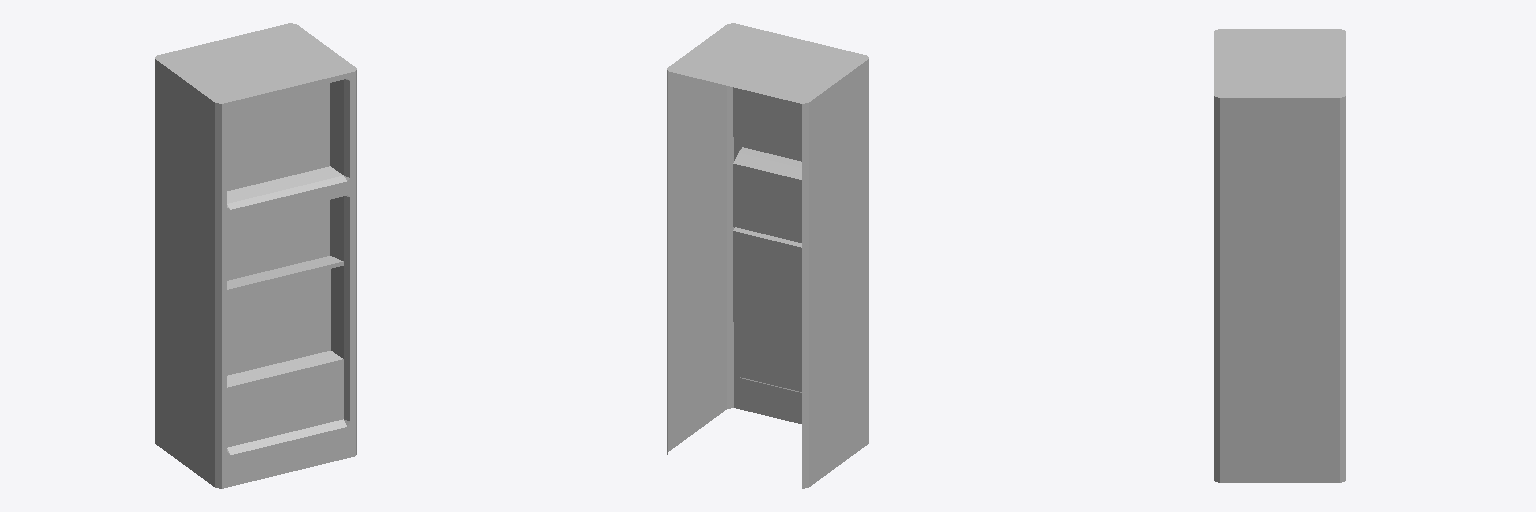
The model's file is FridgeCuerpo.obj.
The picture shows the model from 3 angles: view 1: azimuth 30°, elevation 25°; view 2: azimuth 150°, elevation 25°; view 3: azimuth 270°, elevation 25°; orthographic projection.
Visible parts, largest first — view 1: B_Electric_0_007_3; view 2: B_Electric_0_007_3; view 3: B_Electric_0_007_3.
Boxes of the visible parts, <box> form: B_Electric_0_007_3: <box>155,23,356,488</box>; B_Electric_0_007_3: <box>667,23,868,488</box>; B_Electric_0_007_3: <box>1214,29,1345,482</box>.
Size of the model in its own units: 1.02 by 2.64 by 0.8212.